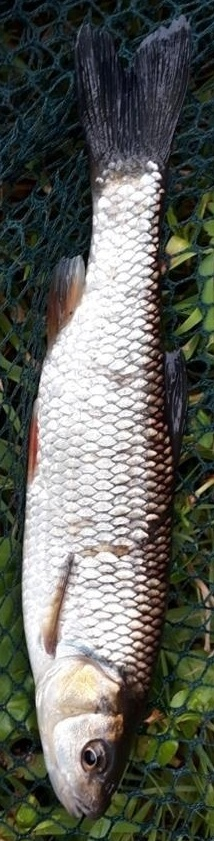Leuciscus cephalus: (20, 20, 194, 821)
